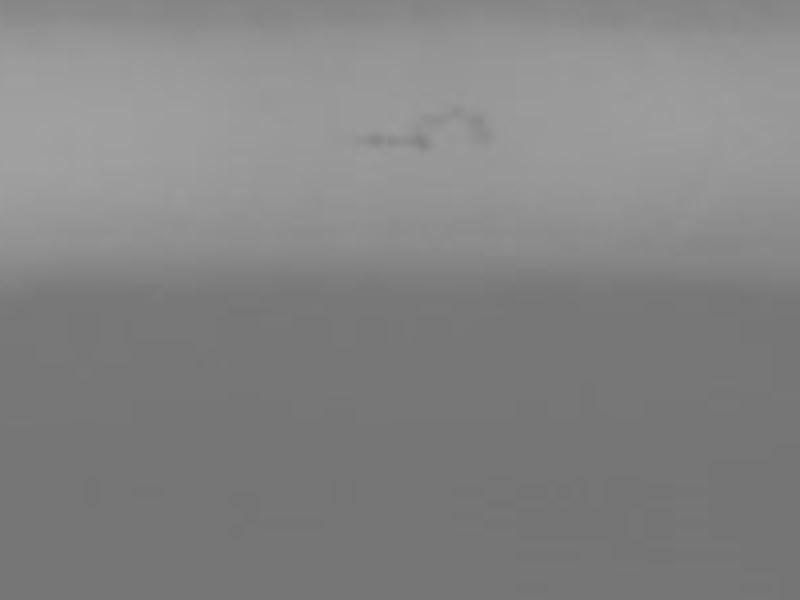defect: (473, 123, 499, 145), (421, 107, 447, 128), (408, 128, 434, 148), (465, 109, 491, 127), (364, 130, 387, 148), (389, 133, 409, 148), (449, 102, 465, 118)
